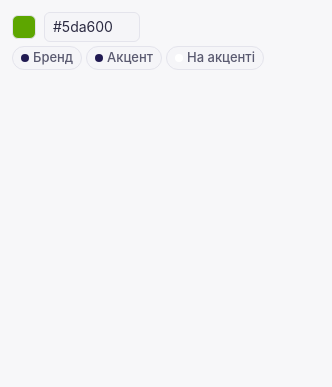
Scenario: ColorPicker › clicking swatch opens the popover panel
The image size is (332, 387).
Click the button named "Відкрити палітру кольорів" at (24, 27), box [12,15,36,39]
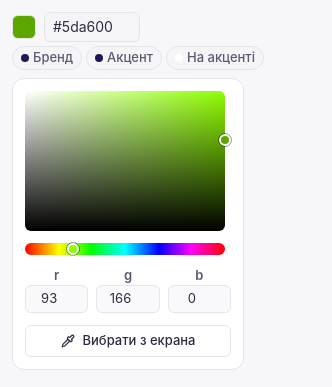
Expected: the element with test id "sv-square" is shown, [25,91,225,231]
